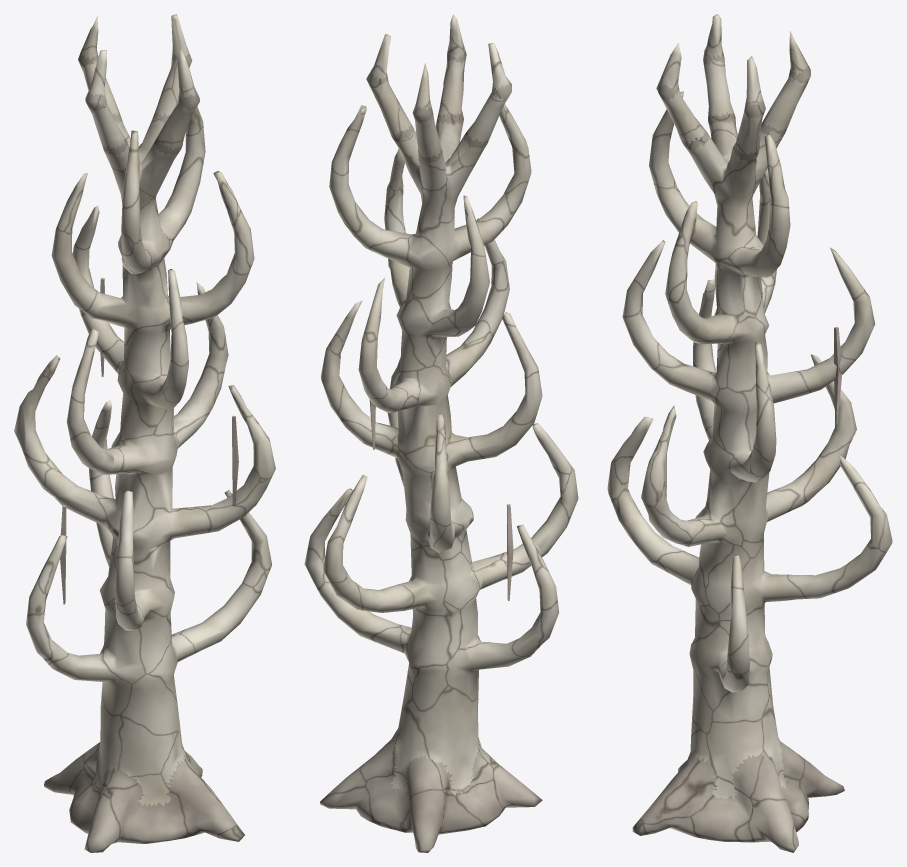
The model's file is arbol_hueso.fbx.
3 views of the same model, side by side, from view 1: azimuth 30°, elevation 25°; view 2: azimuth 150°, elevation 25°; view 3: azimuth 270°, elevation 25° (orthographic). The views are drawn at different scales.
Visible parts, largest first — view 1: arbol; view 2: arbol; view 3: arbol.
Part boxes in pixels (box(x1,y1,x2,y2)): arbol: box(14, 14, 275, 852); arbol: box(304, 14, 578, 852); arbol: box(607, 14, 892, 852).
Size of the model in its own units: 4.01 by 12 by 4.01.
1 material, 1 textured.
